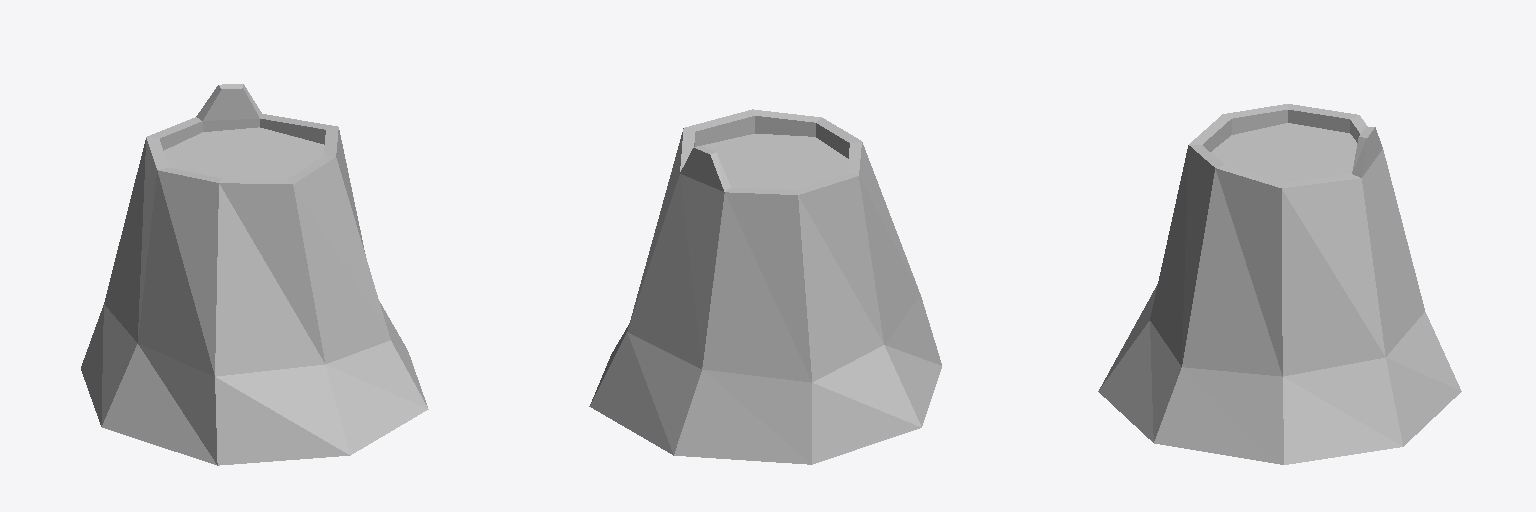
Rendered from Stump_3.obj.
The picture shows the model from 3 angles: view 1: azimuth 30°, elevation 25°; view 2: azimuth 150°, elevation 25°; view 3: azimuth 270°, elevation 25°; orthographic projection.
Visible parts, largest first — view 1: Stump.3; view 2: Stump.3; view 3: Stump.3.
Boxes of the visible parts, box(x1,y1,x2,y2) form: Stump.3: box(81, 84, 428, 465); Stump.3: box(589, 109, 941, 464); Stump.3: box(1098, 104, 1461, 464).
Bounding box in the file's own units: 1.26 × 1.05 × 1.29.